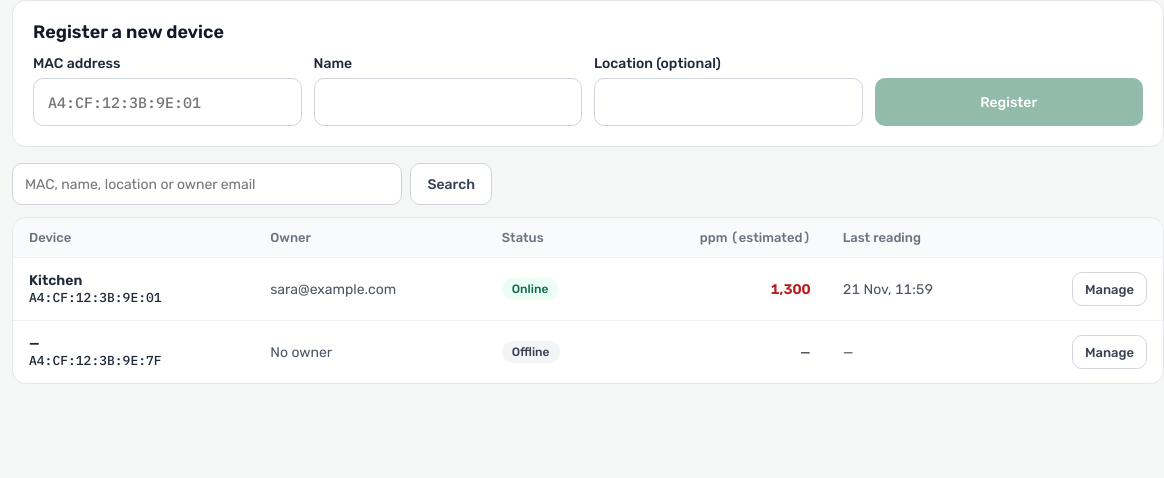
Test case: AdminDevices register › sends a trimmed name, and waits while sending
Step 1. Type "A4CF123B9E99" into the field labelled "MAC address" → (167, 102), box [33,78,302,126]
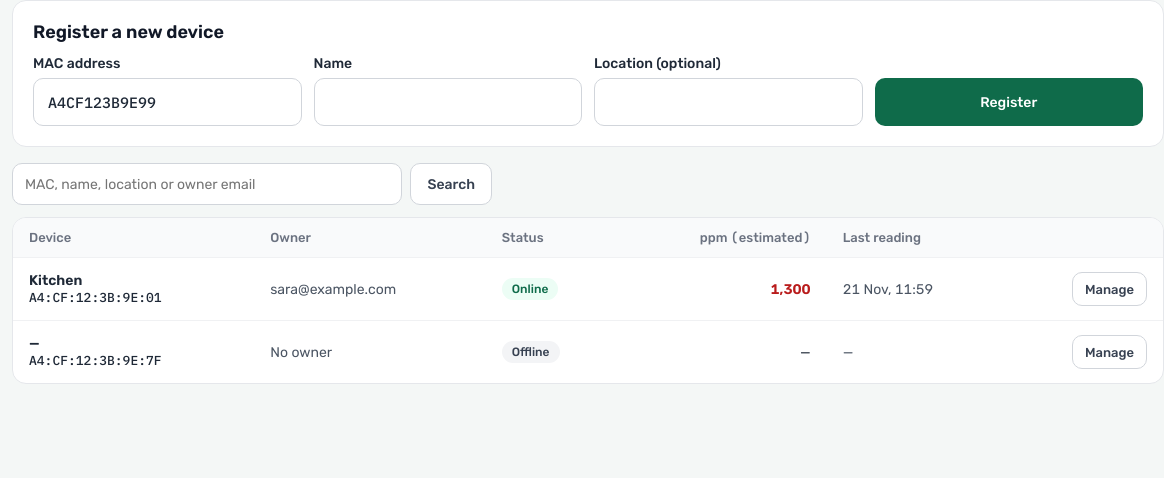
Step 2. Type " Lab " into the field labelled "Name" → (448, 102), box [314,78,582,126]
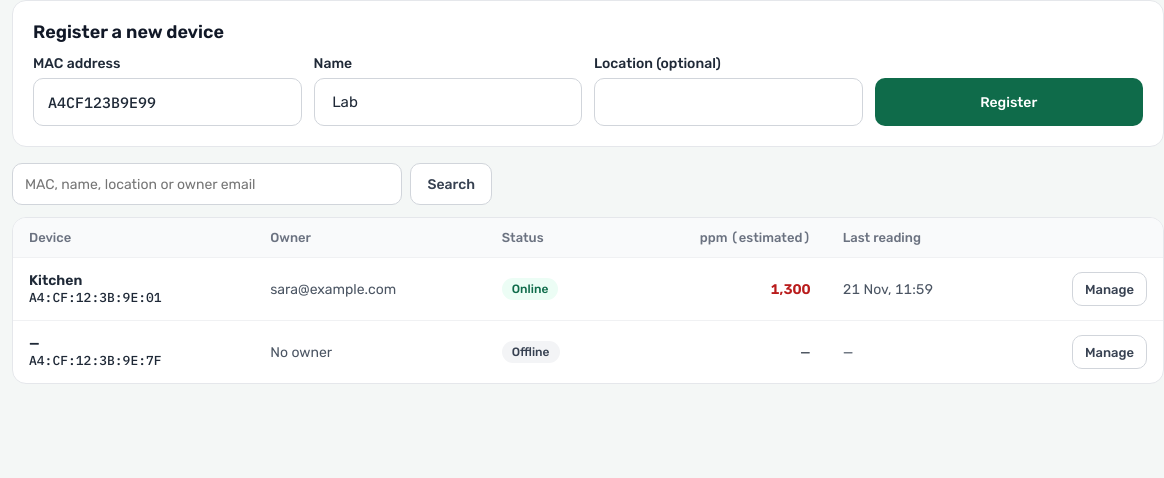
Step 3. Submit the form with class "admin-register", box [12,0,1163,147]
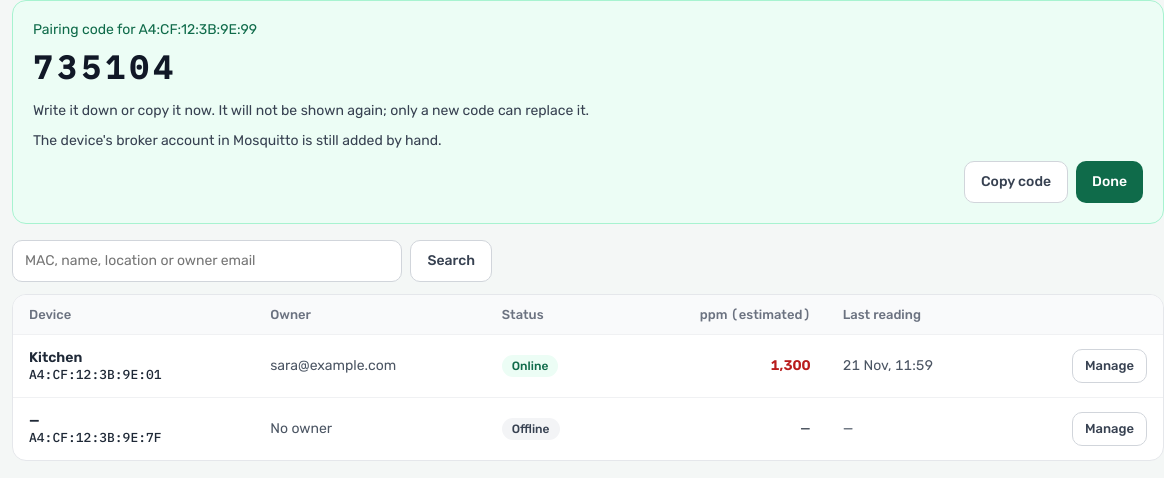
Check: the text "735104" is shown, box [33,46,177,88]
